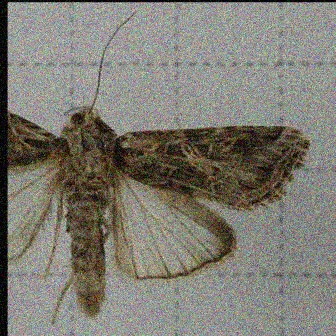Spodoptera litura: (7, 11, 311, 325)
